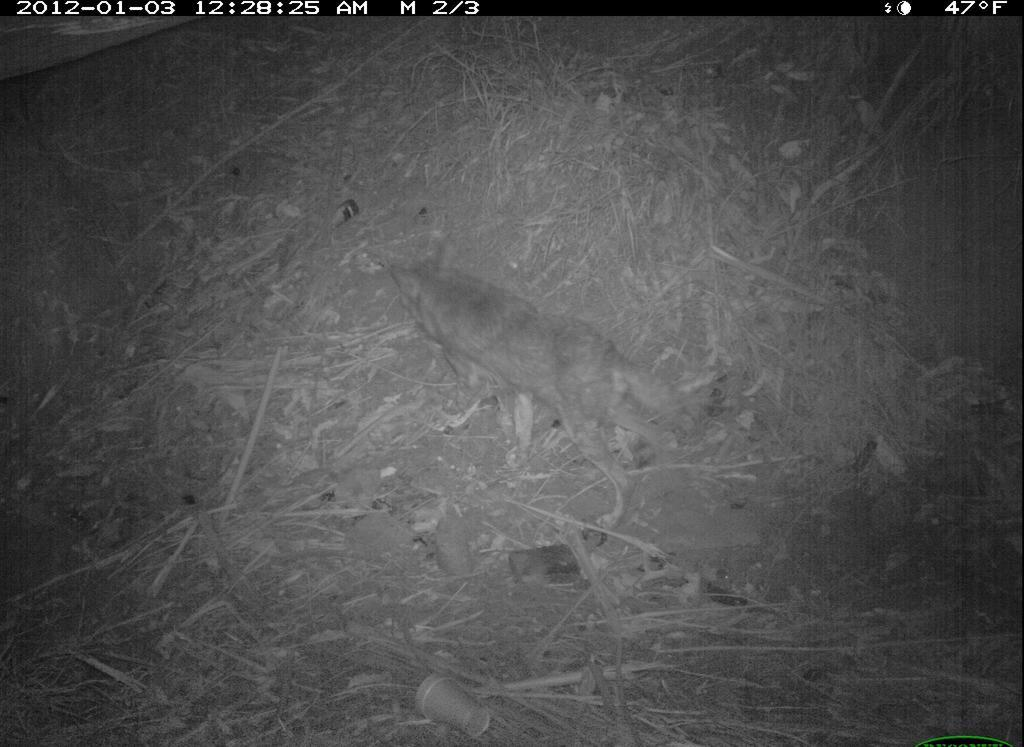coyote: (382, 231, 692, 537)
